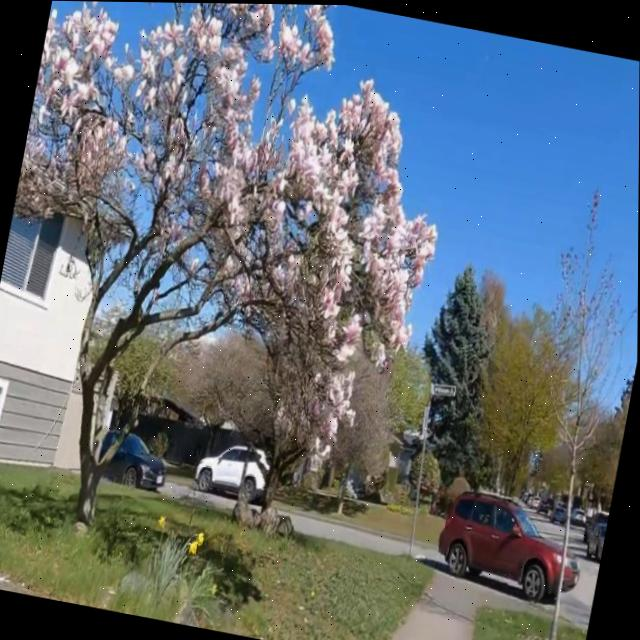Automobile: (438, 491, 563, 598), (194, 444, 269, 500), (106, 434, 165, 489), (586, 510, 609, 558), (101, 429, 117, 453), (550, 503, 566, 522), (571, 506, 585, 524)
Road: (291, 513, 408, 553), (564, 523, 601, 625), (562, 554, 601, 626), (527, 507, 564, 544), (414, 544, 439, 557)
Sidewalk: (390, 569, 518, 640)
